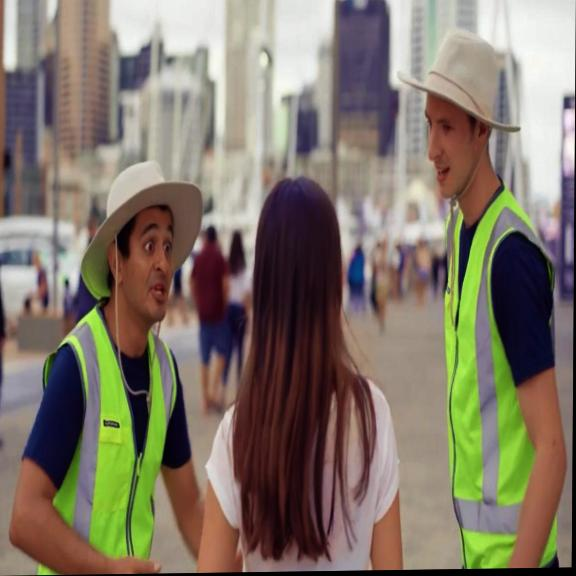safety_vest: (441, 166, 563, 569), (35, 292, 183, 575)
